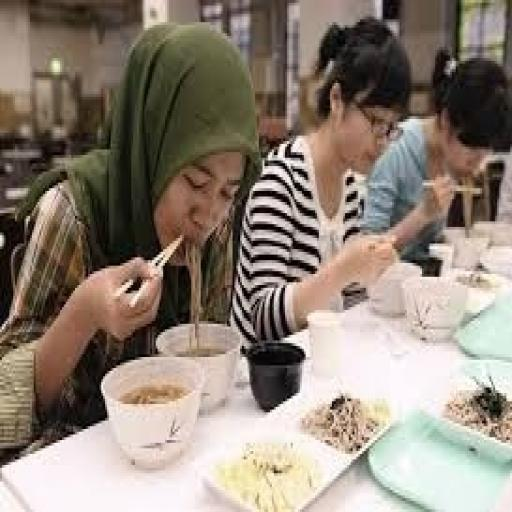eating: (0, 20, 263, 460), (229, 14, 414, 351)
